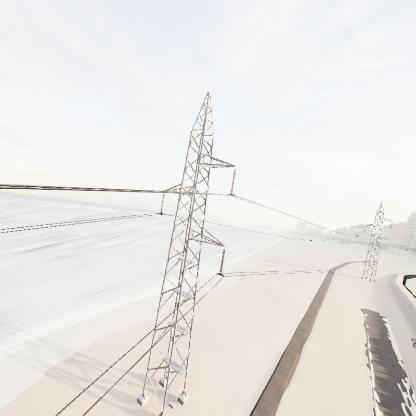tower: (131, 89, 241, 416)
